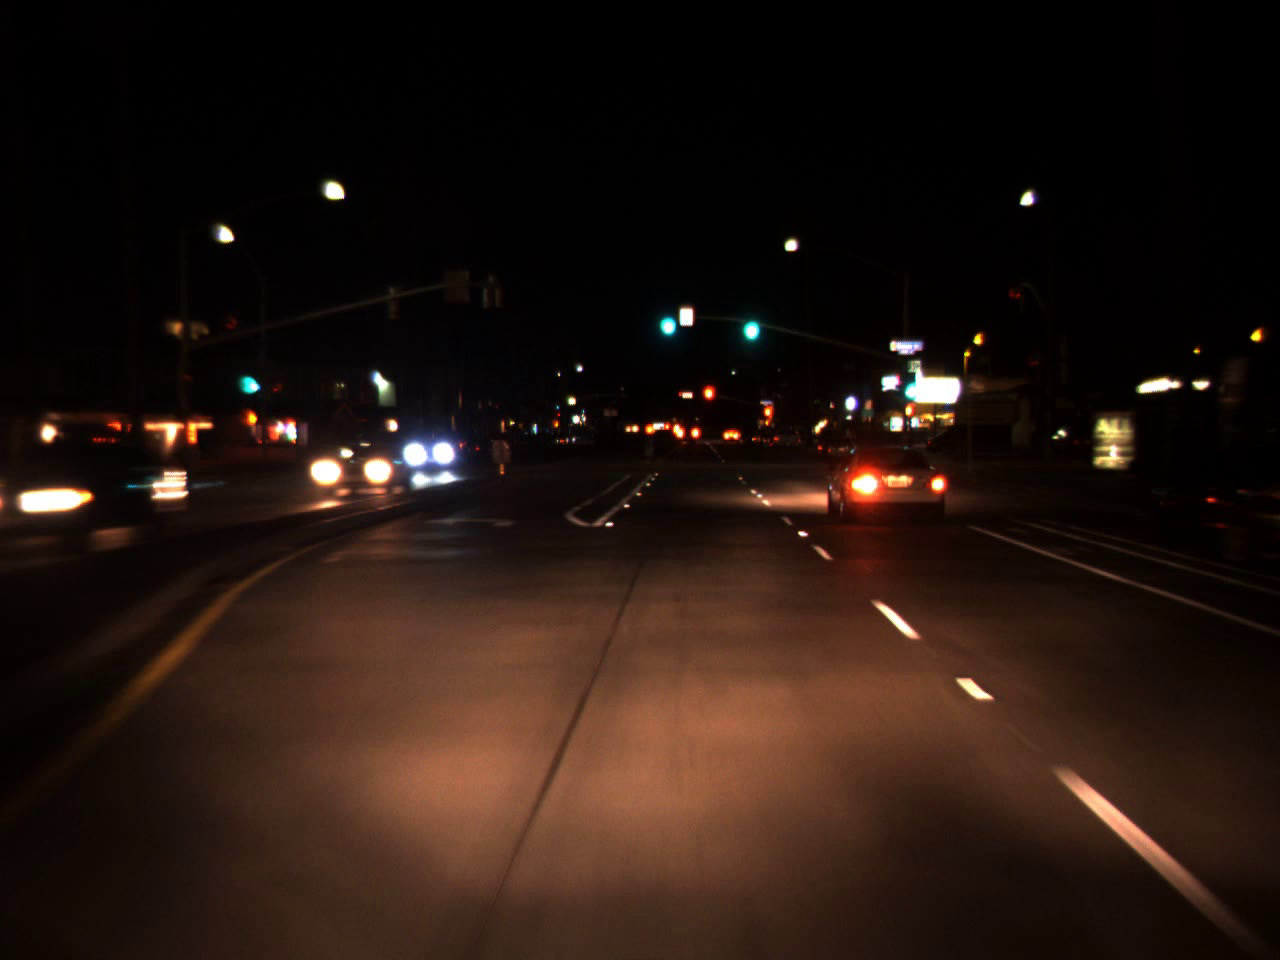go: (736, 296, 763, 347), (654, 295, 679, 340), (238, 357, 259, 399), (901, 364, 917, 403)
stop: (701, 383, 716, 418), (763, 403, 773, 435)
